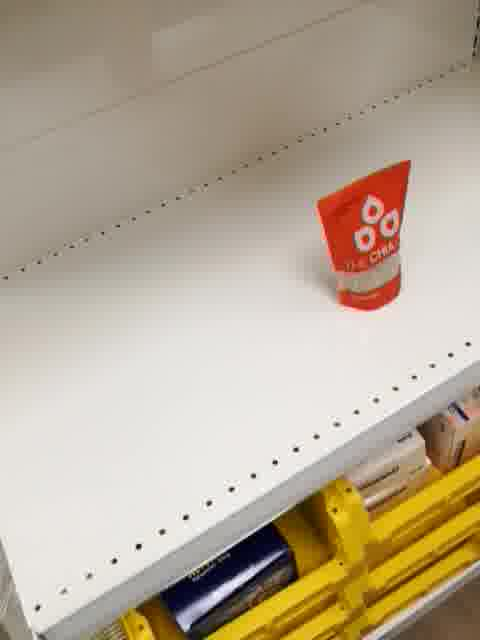whitechia: (314, 158, 411, 313)
